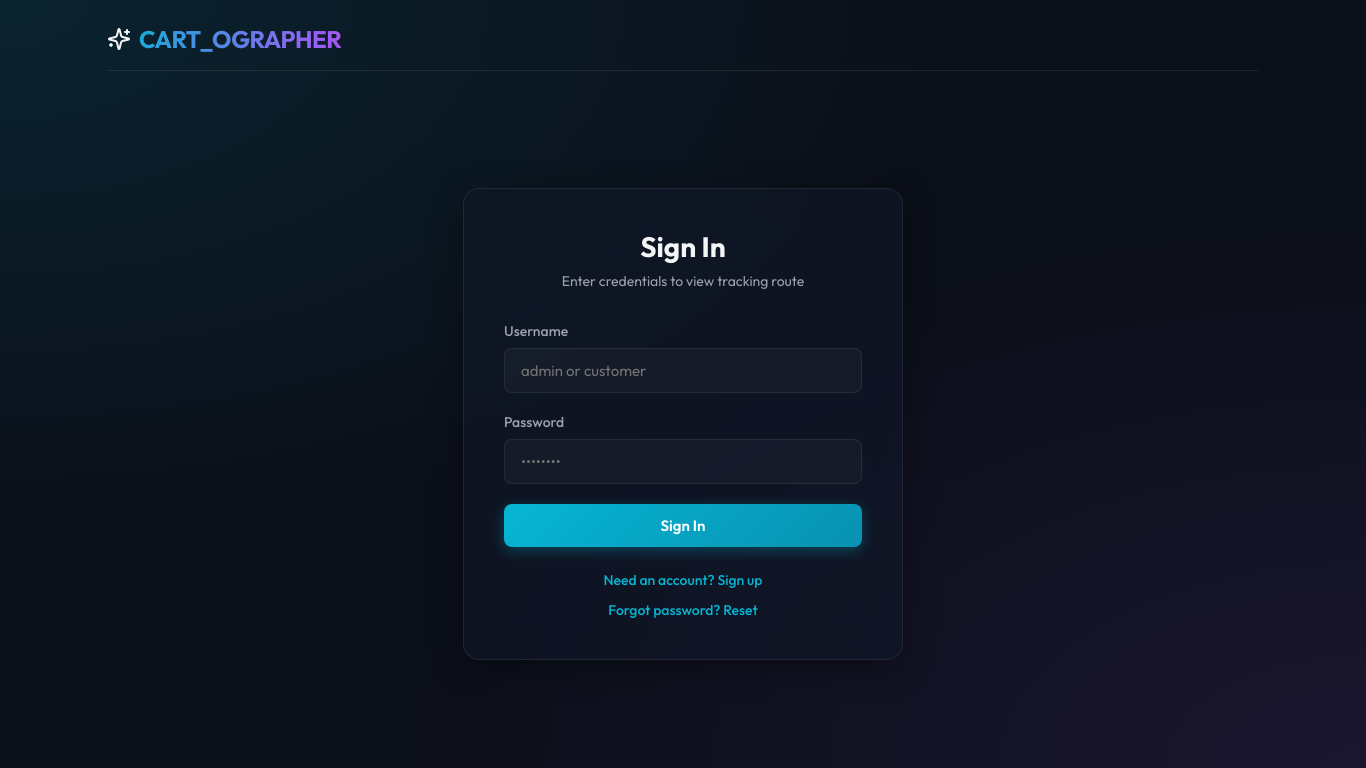
Test: Web UI - App Component › switches to Reset Password view upon link click
Step 1. Click the link "Forgot password? Reset" → point(683, 610), box 608,600 -> 758,618
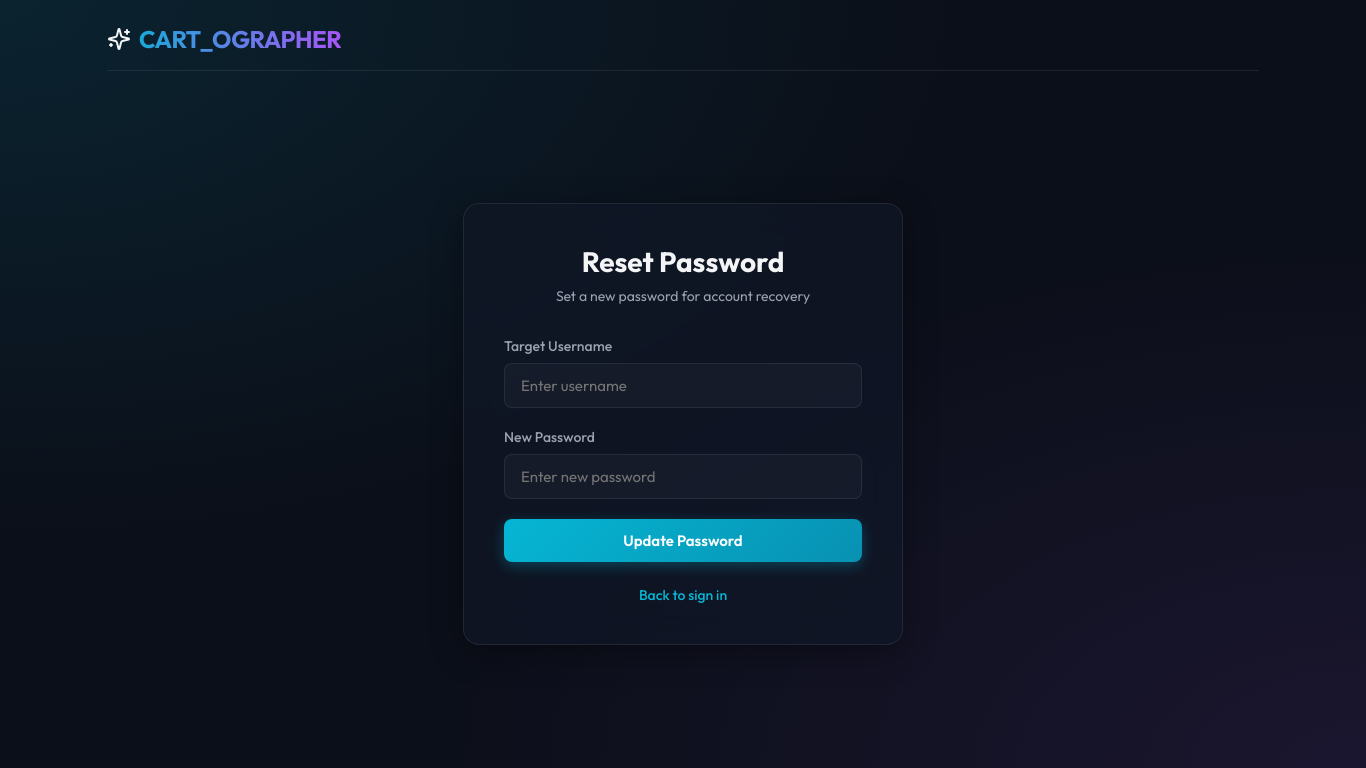
expect the heading "Reset Password" is shown: met, box 582,244 -> 784,278
